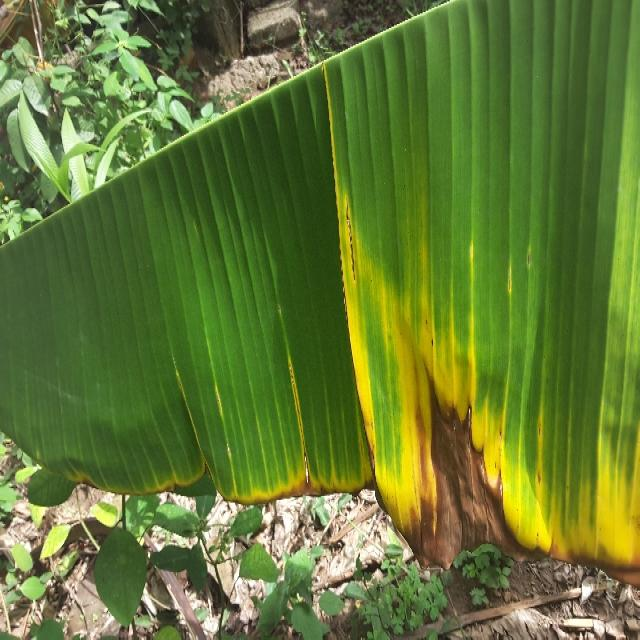Cordana: (334, 92, 640, 585), (62, 96, 374, 512)
